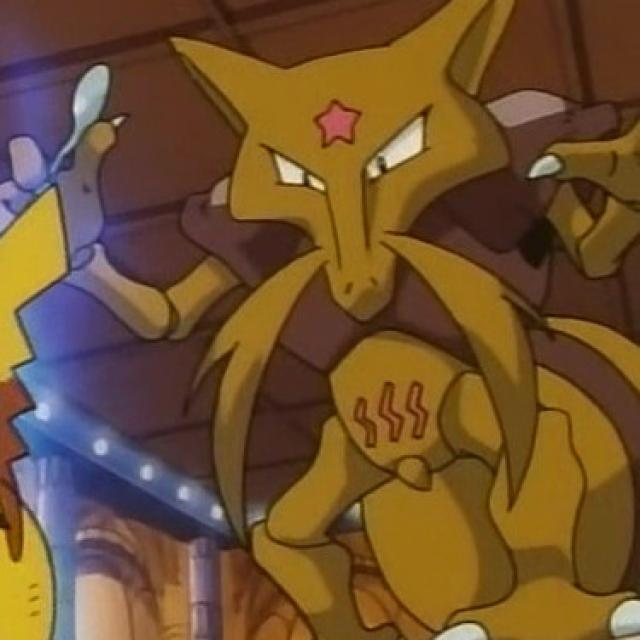Kadabra: (179, 12, 640, 640)
